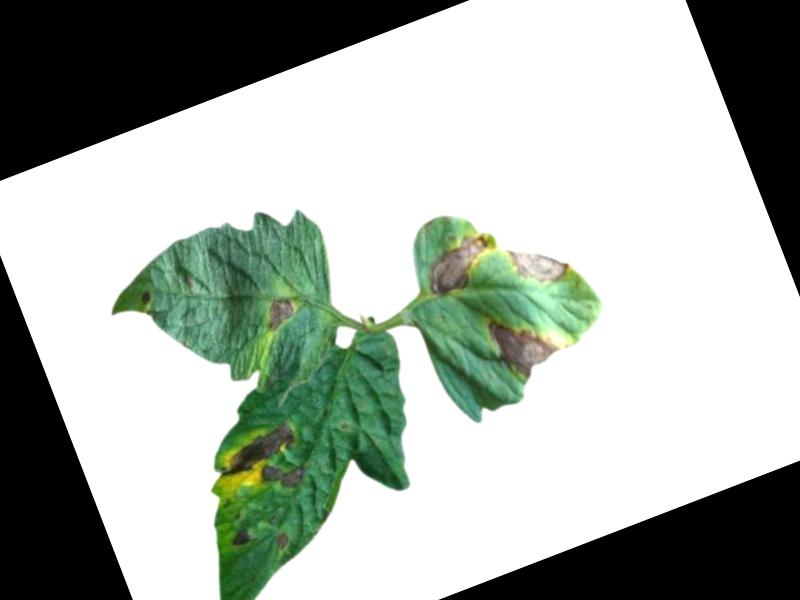Early_blight: (210, 419, 317, 512), (485, 301, 566, 387), (418, 229, 502, 304), (506, 227, 577, 296), (260, 293, 302, 332), (228, 526, 253, 550), (137, 287, 156, 308), (274, 531, 292, 552)
